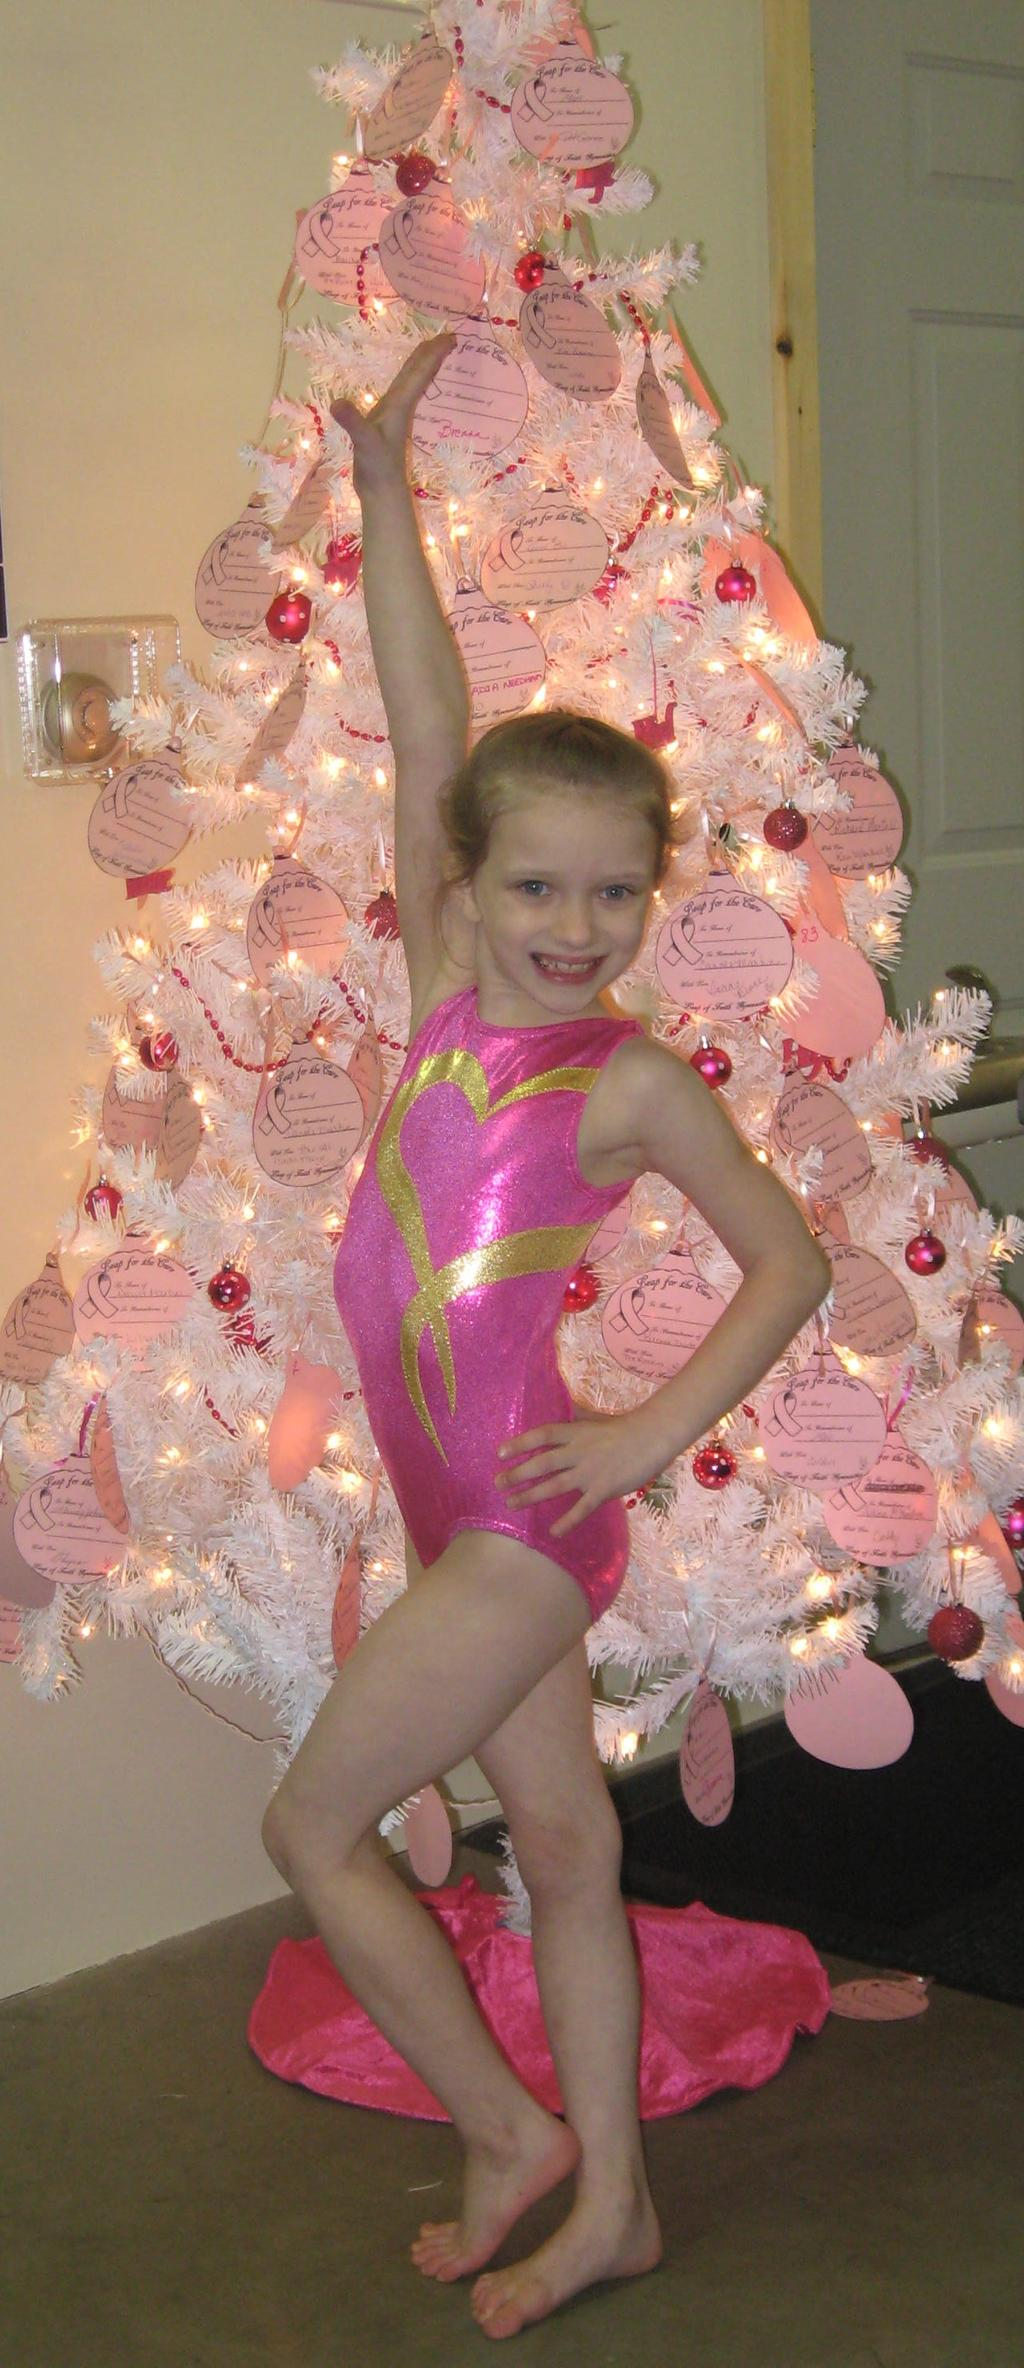face: (477, 755, 653, 996)
